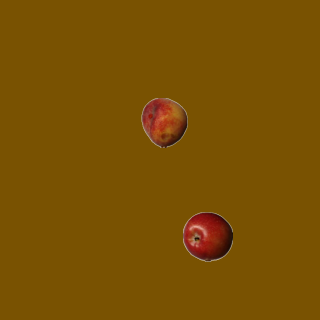Apple Braeburn: (182, 211, 232, 261)
Peach: (139, 97, 189, 147)
